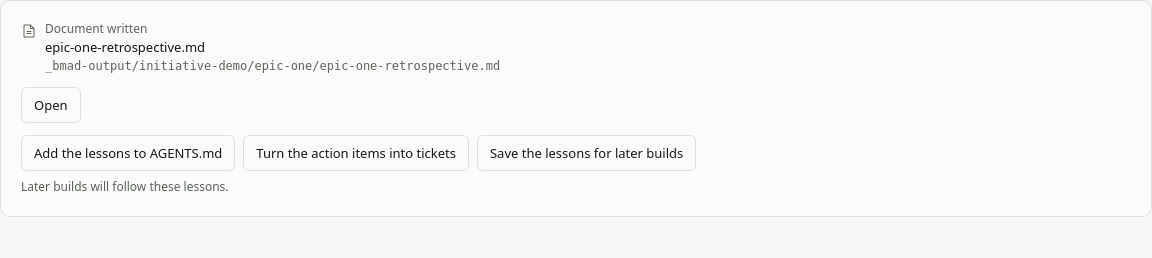
Test: a retrospective's document card (story 7.5) › a refused step says why and hands nothing on
Click the button with test id "retrospective-step".
click(356, 154)  # box [243,136,469,172]
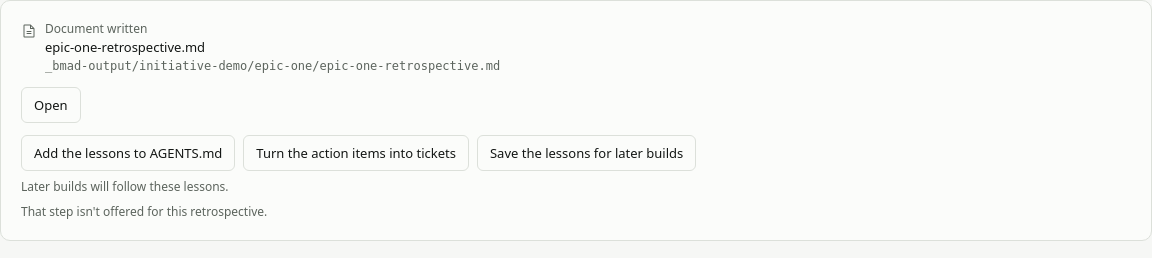
Now the message with test id "retrospective-error" shows "isn't offered", box [21,203,267,220]
